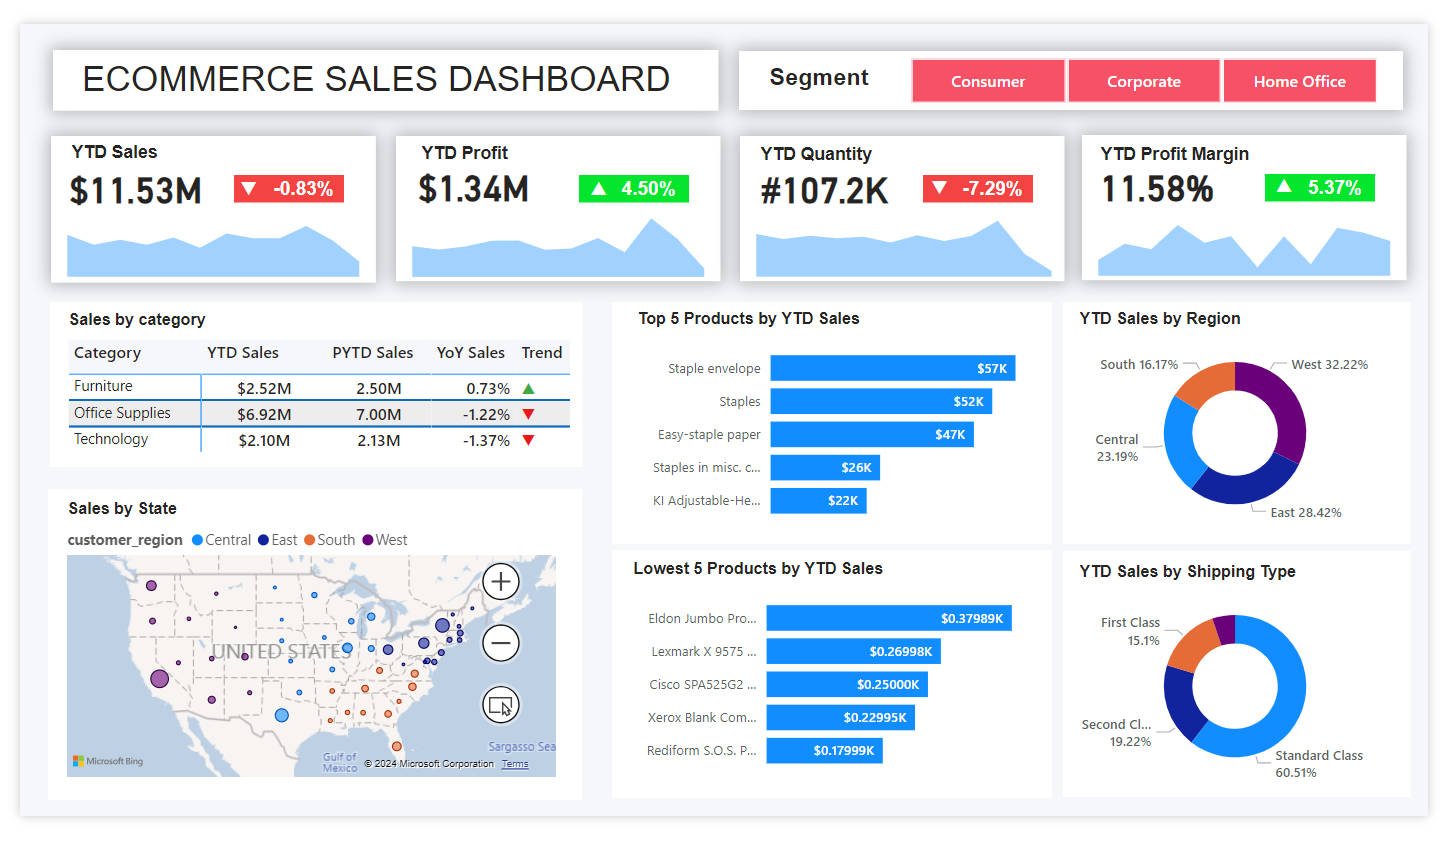

The page's visual inventory and layout, read from the dashboard file:
{"tool":"powerbi","page":{"name":"Page 1","canvas":[1280,720],"ordinal":0},"visuals":[{"type":"shape","box":[30,23.6,604.5,55.5],"z":1000},{"type":"textbox","box":[41.8,27.3,564.5,50],"z":2000},{"type":"shape","box":[28.2,101.9,295,133],"z":3000},{"type":"card","fields":{"Values":["ecommerce_data.YTD Sales"]},"box":[28.2,112.9,154,72],"z":4000},{"type":"areaChart","fields":{"Category":["Calendar.Month"],"Y":["Sum(ecommerce_data.sales_per_order)"]},"box":[28,161.7,295,73],"z":5000},{"type":"shape","box":[194.2,136.9,100,25],"z":6000},{"type":"card","fields":{"Values":["ecommerce_data.YoY Sales"]},"box":[222.2,136.9,72,27],"z":7000},{"type":"shape","box":[341.7,101.8,295,132],"z":8000},{"type":"card","fields":{"Values":["ecommerce_data.Sales Icon"]},"box":[172.2,136.9,72,27],"z":9000},{"type":"areaChart","fields":{"Category":["Calendar.Month"],"Y":["Sum(ecommerce_data.profit_per_order)"]},"box":[341.5,160.6,295,74],"z":10000},{"type":"textbox","box":[42,102.7,126,33],"z":11000},{"type":"card","fields":{"Values":["ecommerce_data.YTD Profit"]},"box":[335.5,110.6,154,72],"z":12000},{"type":"shape","box":[507.7,136.8,100,25],"z":13000},{"type":"card","fields":{"Values":["ecommerce_data.YoY Profit"]},"box":[535.7,136.8,72,27],"z":14000},{"type":"card","fields":{"Values":["ecommerce_data.Profit Icon"]},"box":[489.7,136.8,72,27],"z":15000},{"type":"textbox","box":[359.7,103.8,126,33],"z":16000},{"type":"shape","box":[654.6,101.8,295,132],"z":17000},{"type":"areaChart","fields":{"Category":["Calendar.Month"],"Y":["Sum(ecommerce_data.order_quantity)"]},"box":[654.4,162.7,298,72],"z":18000},{"type":"card","fields":{"Values":["ecommerce_data.YTD Concatenated Qty"]},"box":[654.6,112.8,154,72],"z":19000},{"type":"shape","box":[820.6,136.8,100,25],"z":20000},{"type":"card","fields":{"Values":["ecommerce_data.YoY Qty"]},"box":[848.6,136.8,72,27],"z":21000},{"type":"card","fields":{"Values":["ecommerce_data.Qty Icon"]},"box":[800,136.4,71.8,27.3],"z":22000},{"type":"textbox","box":[668.4,104.7,126,33],"z":23000},{"type":"shape","box":[965.5,101,295,132],"z":24000},{"type":"areaChart","fields":{"Category":["Calendar.Month"],"Y":["ecommerce_data.Profit Margin"]},"box":[965.5,160.7,295,73],"z":25000},{"type":"card","fields":{"Values":["ecommerce_data.YTD Profit Margin"]},"box":[965.5,110.7,136,72],"z":26000},{"type":"shape","box":[1131.5,136,100,25],"z":27000},{"type":"card","fields":{"Values":["ecommerce_data.YoY Profit Margin"]},"box":[1159.1,135.5,72.7,26.4],"z":28000},{"type":"card","fields":{"Values":["ecommerce_data.Profit Margin Icon"]},"box":[1112.7,134.5,72.7,27.3],"z":29000},{"type":"textbox","box":[977.5,104.7,165,32],"z":30000},{"type":"shape","box":[27.1,252.9,484.3,150],"z":31000},{"type":"pivotTable","title":"Sales by category","fields":{"Values":["ecommerce_data.YTD Sales","ecommerce_data.PYTD Sales","ecommerce_data.YoY Sales","ecommerce_data.Sales Icon"],"Rows":["ecommerce_data.category_name"]},"box":[39,261,481,142],"z":32000},{"type":"shape","box":[25.7,422.9,485.7,282.9],"z":33000},{"type":"map","title":"Sales by State","fields":{"Y":["us_state_long_lat_codes.latitude"],"X":["us_state_long_lat_codes.longitude"],"Size":["ecommerce_data.YTD Sales"],"Series":["ecommerce_data.customer_region"]},"box":[38.6,432.9,454.3,257.1],"z":34000},{"type":"shape","box":[538.6,252.9,400,220],"z":35000},{"type":"shape","box":[538.6,478.6,400,225.7],"z":36000},{"type":"barChart","title":"Top 5 Products by YTD Sales","fields":{"Category":["ecommerce_data.product_name"],"Y":["ecommerce_data.YTD Sales"]},"box":[556,260,365,203],"z":37000},{"type":"barChart","title":"Top 5 Products by YTD Sales","fields":{"Category":["ecommerce_data.product_name"],"Y":["ecommerce_data.YTD Sales"]},"box":[552.9,487.1,365.7,202.9],"z":38000},{"type":"shape","box":[948.6,252.9,315.7,220],"z":39000},{"type":"shape","box":[948.2,479.1,316.4,223.6],"z":40000},{"type":"donutChart","title":"YTD Sales by Region","fields":{"Category":["ecommerce_data.customer_region"],"Y":["ecommerce_data.YTD Sales"]},"box":[958.6,260,292.9,202.9],"z":41000},{"type":"donutChart","title":"YTD Sales by Shipping Type","fields":{"Category":["ecommerce_data.shipping_type"],"Y":["ecommerce_data.YTD Sales"]},"box":[958.6,490,292.9,202.9],"z":42000},{"type":"shape","box":[653.6,24.5,603.6,53.6],"z":43000},{"type":"slicer","fields":{"Values":["ecommerce_data.customer_segment"]},"box":[784.3,24.3,472.9,54.3],"z":44000},{"type":"textbox","box":[676,32,122,42],"z":46000}]}

Visuals, with their boxes in screenshot pixels (x1, y1, x2, y2), scaled from the page's 1280x720 canvas onto the 1455x843 screenshot:
shape: <region>34, 28, 721, 93</region>
textbox: <region>48, 32, 689, 91</region>
shape: <region>32, 119, 367, 275</region>
card - ecommerce_data.YTD Sales: <region>32, 132, 207, 216</region>
areaChart - Calendar.Month x Sum(ecommerce_data.sales_per_order): <region>32, 189, 367, 275</region>
shape: <region>221, 160, 334, 190</region>
card - ecommerce_data.YoY Sales: <region>253, 160, 334, 192</region>
shape: <region>388, 119, 724, 274</region>
card - ecommerce_data.Sales Icon: <region>196, 160, 278, 192</region>
areaChart - Calendar.Month x Sum(ecommerce_data.profit_per_order): <region>388, 188, 724, 275</region>
textbox: <region>48, 120, 191, 159</region>
card - ecommerce_data.YTD Profit: <region>381, 129, 556, 214</region>
shape: <region>577, 160, 691, 189</region>
card - ecommerce_data.YoY Profit: <region>609, 160, 691, 192</region>
card - ecommerce_data.Profit Icon: <region>557, 160, 638, 192</region>
textbox: <region>409, 122, 552, 160</region>
shape: <region>744, 119, 1079, 274</region>
areaChart - Calendar.Month x Sum(ecommerce_data.order_quantity): <region>744, 190, 1083, 275</region>
card - ecommerce_data.YTD Concatenated Qty: <region>744, 132, 919, 216</region>
shape: <region>933, 160, 1046, 189</region>
card - ecommerce_data.YoY Qty: <region>965, 160, 1046, 192</region>
card - ecommerce_data.Qty Icon: <region>909, 160, 991, 192</region>
textbox: <region>760, 123, 903, 161</region>
shape: <region>1098, 118, 1433, 273</region>
areaChart - Calendar.Month x ecommerce_data.Profit Margin: <region>1098, 188, 1433, 274</region>
card - ecommerce_data.YTD Profit Margin: <region>1098, 130, 1252, 214</region>
shape: <region>1286, 159, 1400, 189</region>
card - ecommerce_data.YoY Profit Margin: <region>1318, 159, 1400, 190</region>
card - ecommerce_data.Profit Margin Icon: <region>1265, 157, 1347, 189</region>
textbox: <region>1111, 123, 1299, 160</region>
shape: <region>31, 296, 581, 472</region>
"Sales by category" pivotTable: <region>44, 306, 591, 472</region>
shape: <region>29, 495, 581, 826</region>
"Sales by State" map: <region>44, 507, 560, 808</region>
shape: <region>612, 296, 1067, 554</region>
shape: <region>612, 560, 1067, 825</region>
"Top 5 Products by YTD Sales" barChart: <region>632, 304, 1047, 542</region>
"Top 5 Products by YTD Sales" barChart: <region>628, 570, 1044, 808</region>
shape: <region>1078, 296, 1437, 554</region>
shape: <region>1078, 561, 1437, 823</region>
"YTD Sales by Region" donutChart: <region>1090, 304, 1423, 542</region>
"YTD Sales by Shipping Type" donutChart: <region>1090, 574, 1423, 811</region>
shape: <region>743, 29, 1429, 91</region>
slicer - ecommerce_data.customer_segment: <region>892, 28, 1429, 92</region>
textbox: <region>768, 37, 907, 87</region>
